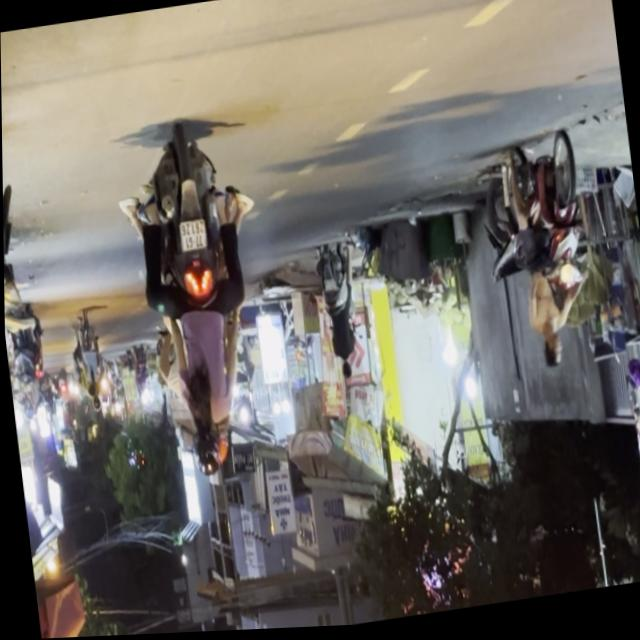helmet: (192, 423, 224, 487), (207, 421, 235, 472)
licenseplate: (119, 120, 278, 499), (496, 132, 604, 382)
motorcyclist: (539, 332, 565, 377)
nohelmet: (179, 222, 207, 254)
